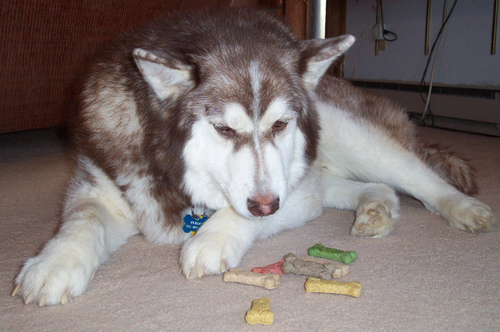dog: (7, 3, 496, 308)
